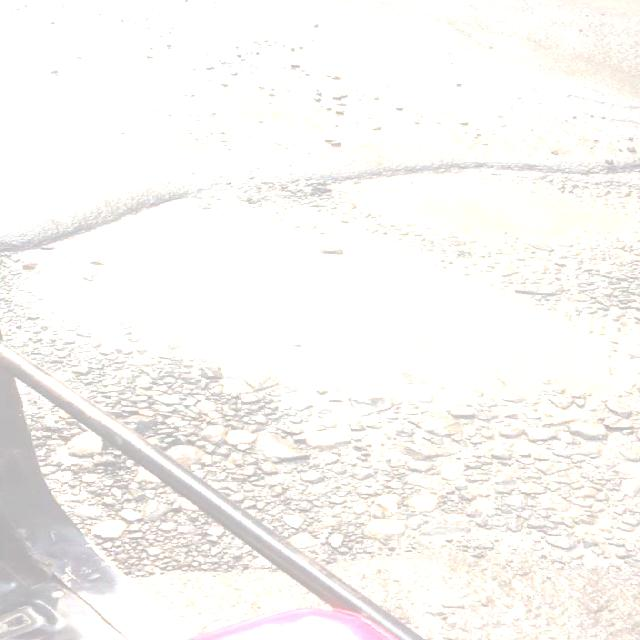Pothole: (18, 135, 640, 410)
